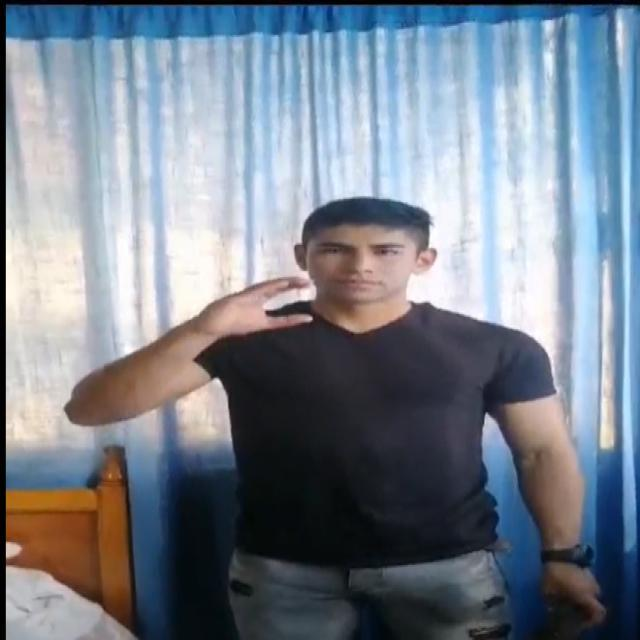C: (220, 242, 330, 392)
